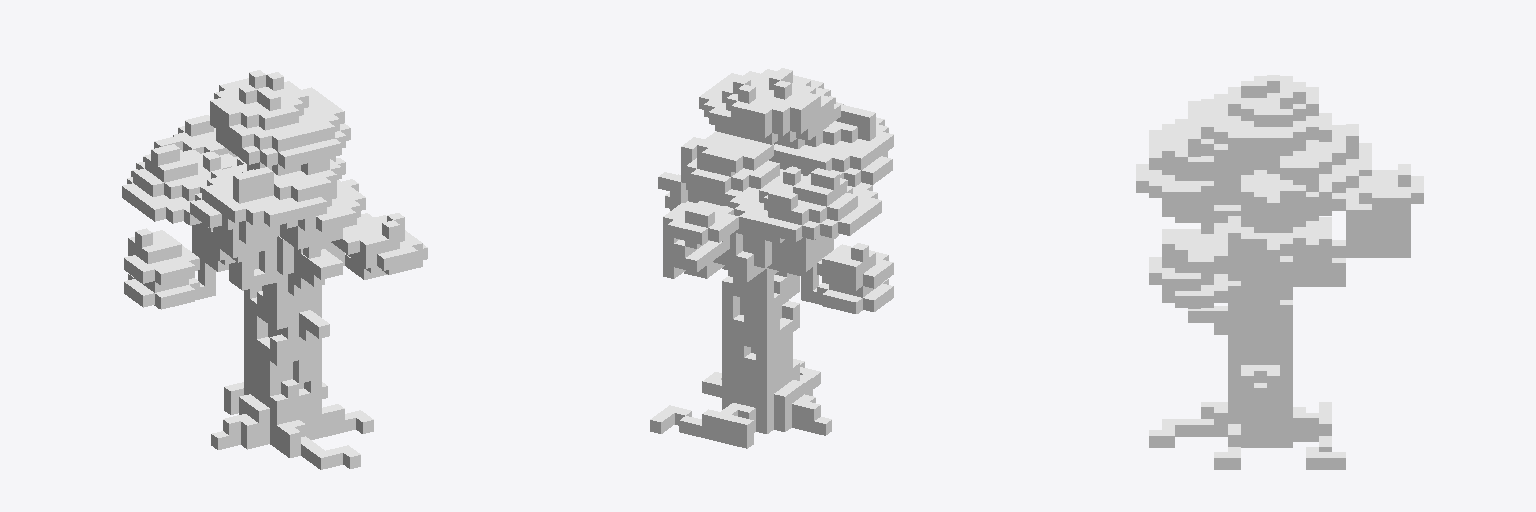
File: Tree6-0.obj
3 views of the same model, side by side, from view 1: azimuth 30°, elevation 25°; view 2: azimuth 150°, elevation 25°; view 3: azimuth 270°, elevation 25° (orthographic).
Visible parts, largest first — view 1: object 1; view 2: object 1; view 3: object 1.
Part boxes in pixels (left/top/right/bottom): object 1: left=122, top=70, right=427, bottom=469; object 1: left=650, top=68, right=893, bottom=448; object 1: left=1136, top=75, right=1423, bottom=469.
Bounding box in the file's own units: 2.1 × 2.9 × 2.2.